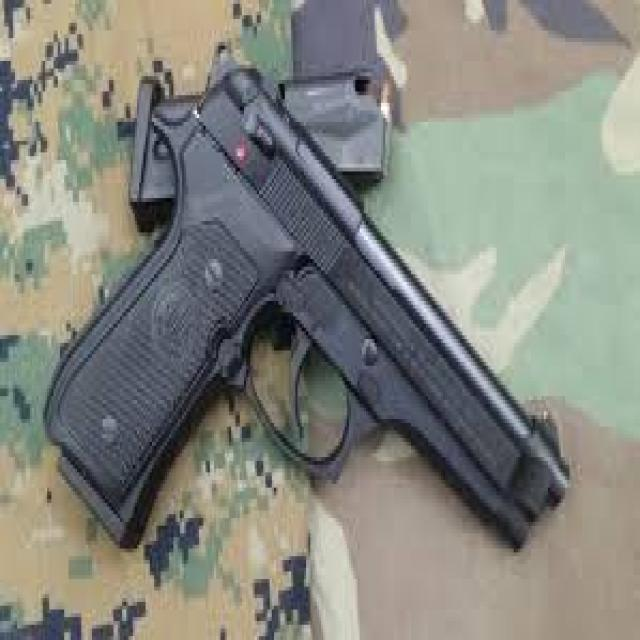Gun: (50, 58, 565, 614)
